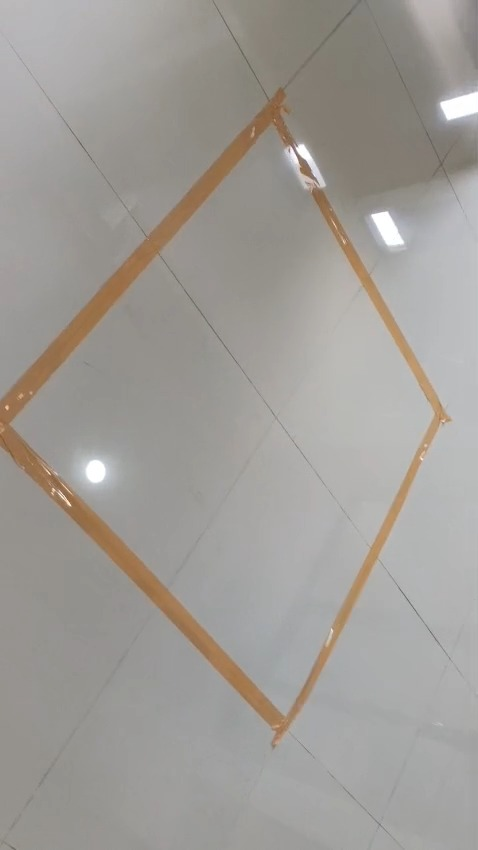floor marking: (0, 90, 449, 744)
